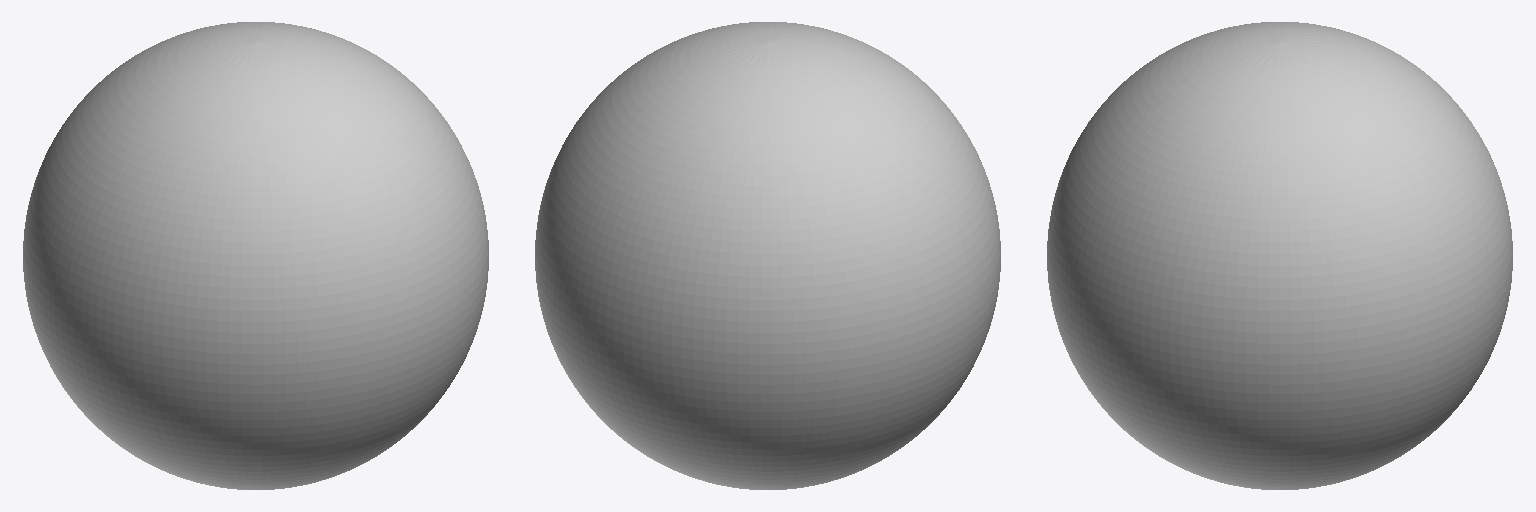
File: earth.obj
The picture shows the model from 3 angles: view 1: azimuth 30°, elevation 25°; view 2: azimuth 150°, elevation 25°; view 3: azimuth 270°, elevation 25°; orthographic projection.
Visible parts, largest first — view 1: Sphere; view 2: Sphere; view 3: Sphere.
Part boxes in pixels (left/top/right/bottom): Sphere: left=23, top=22, right=488, bottom=489; Sphere: left=535, top=22, right=1000, bottom=489; Sphere: left=1047, top=22, right=1512, bottom=489.
Size of the model in its own units: 1.97 by 2 by 1.97.